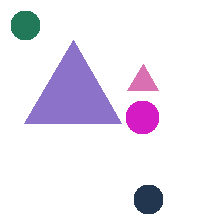circle: (126, 101, 158, 133), (134, 185, 162, 213), (11, 11, 39, 39)
triangle: (24, 40, 121, 123), (127, 64, 158, 90)
